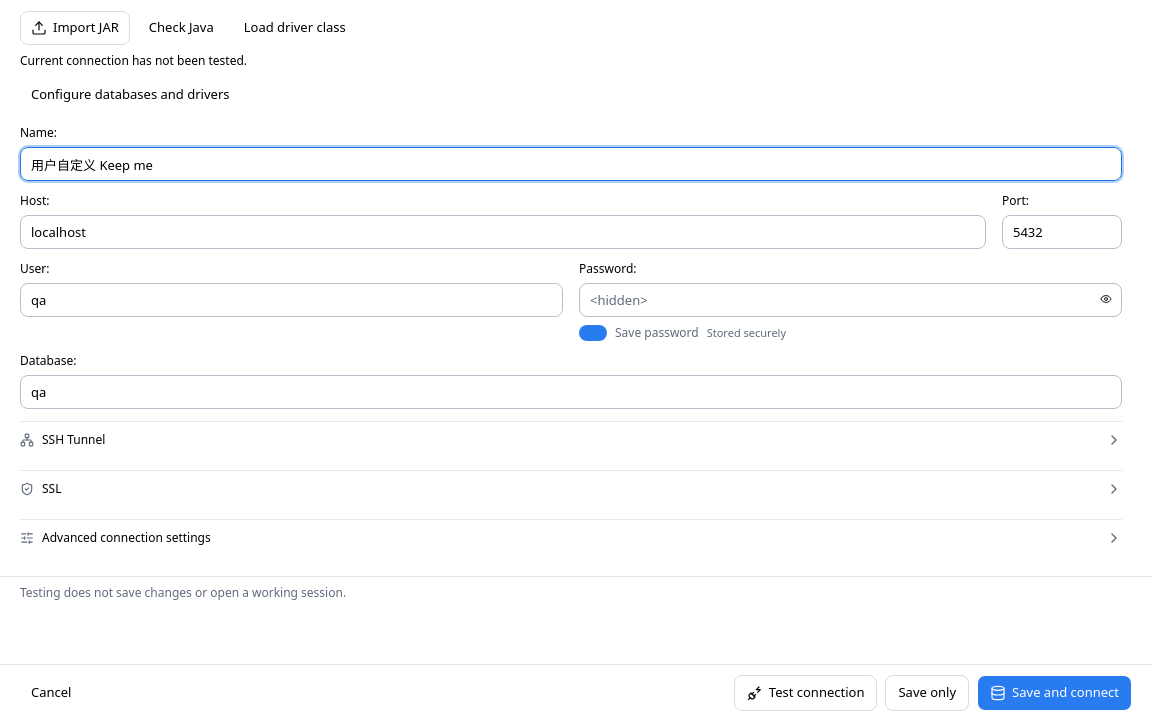
Test case: invalidates a completed result when port changes
(page scrolled)
Step 1. Click the button "Test connection" → (806, 692), box [734,674,878,710]
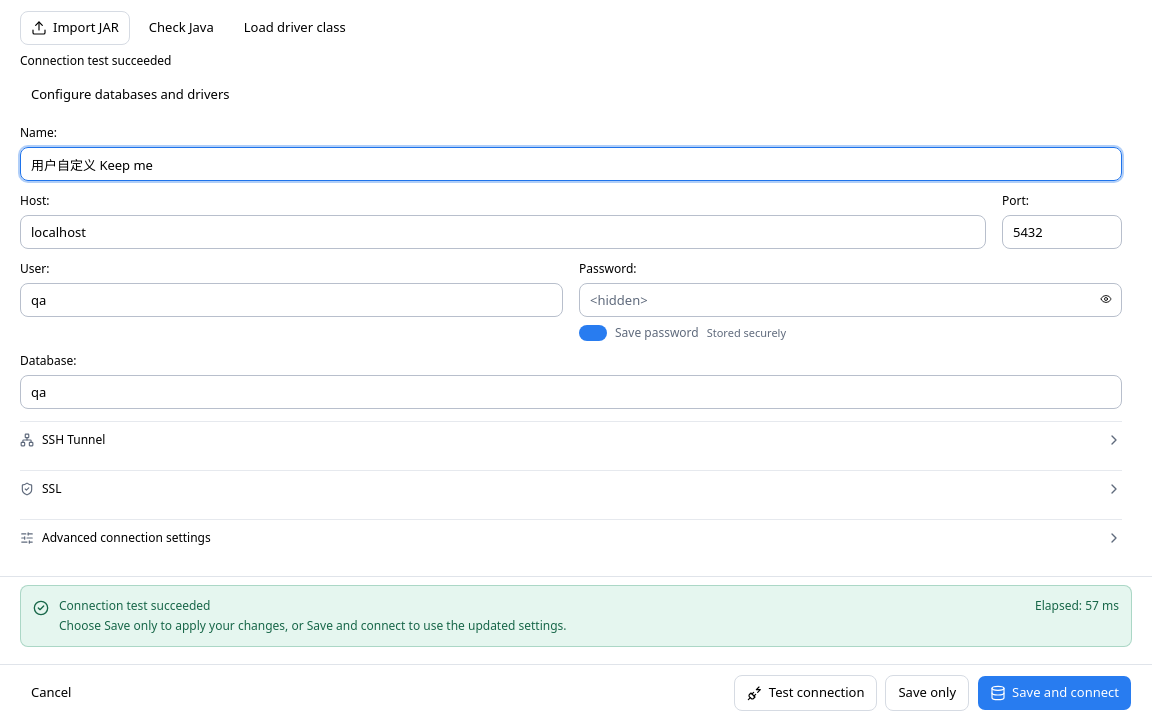
Step 2. Replace the text in the number field labelled "Port:" with "6543" → (1062, 232), box [1002,215,1122,249]
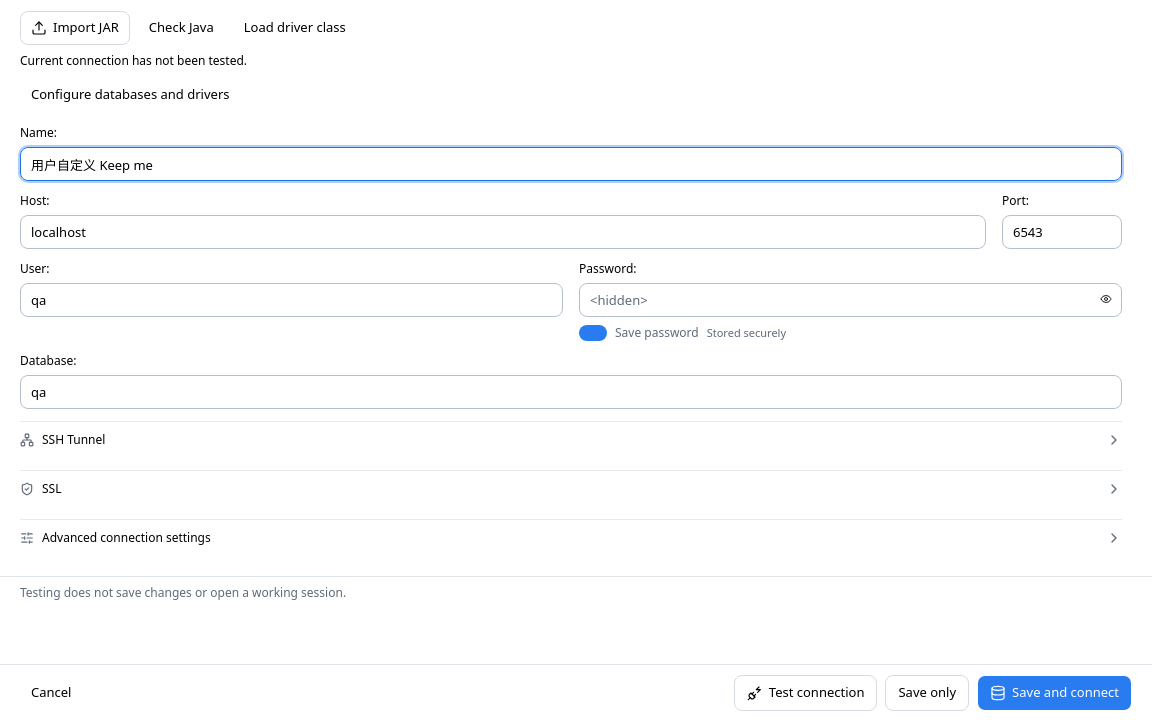
Expected: the text "Connection test succeeded" is gone
Expected: the text "Current connection has not been tested." is shown, [20,52,247,69]
